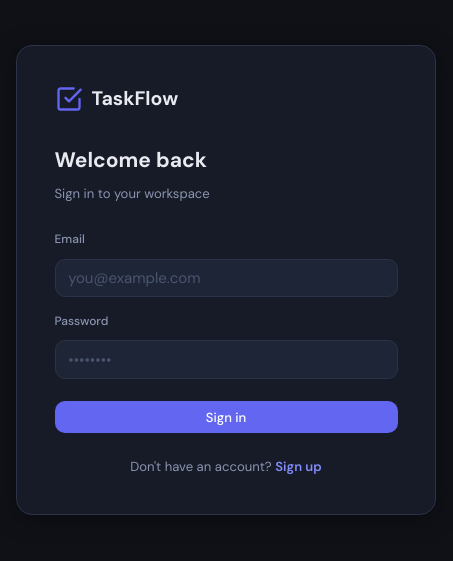
LoginPage › shows error on failed login
Type "bad@bad.com" into the field with placeholder "you@example.com".
click(226, 278); type("bad@bad.com")  # box [54,259,398,297]
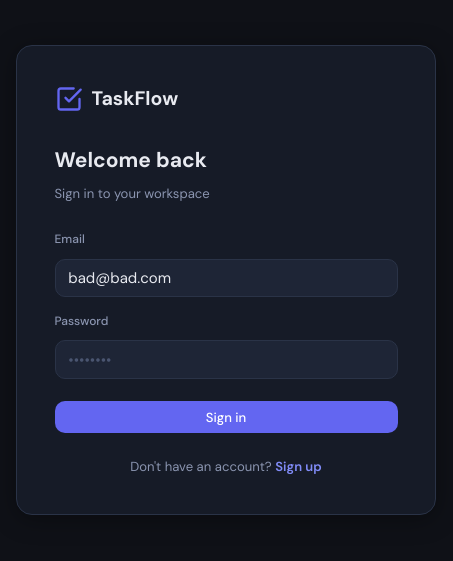
Type "wrong" into the password field with placeholder "••••••••".
click(226, 360); type("wrong")  # box [54,340,398,379]
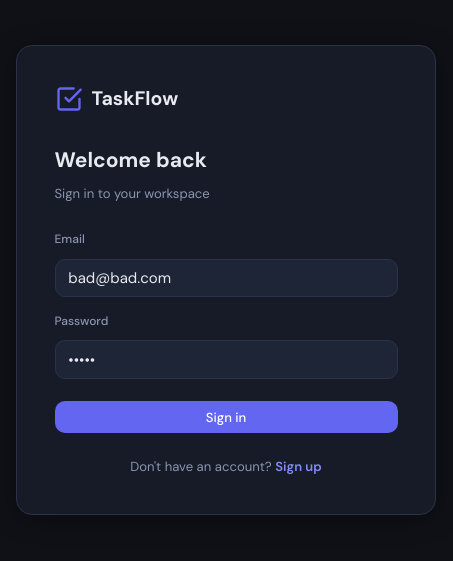
Click the button "Sign in".
click(226, 417)  # box [54,401,398,433]
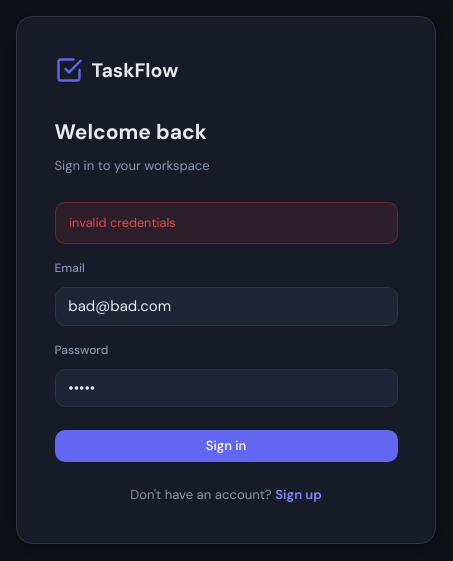
Check: the text "invalid credentials" is shown, box [54,202,398,244]
